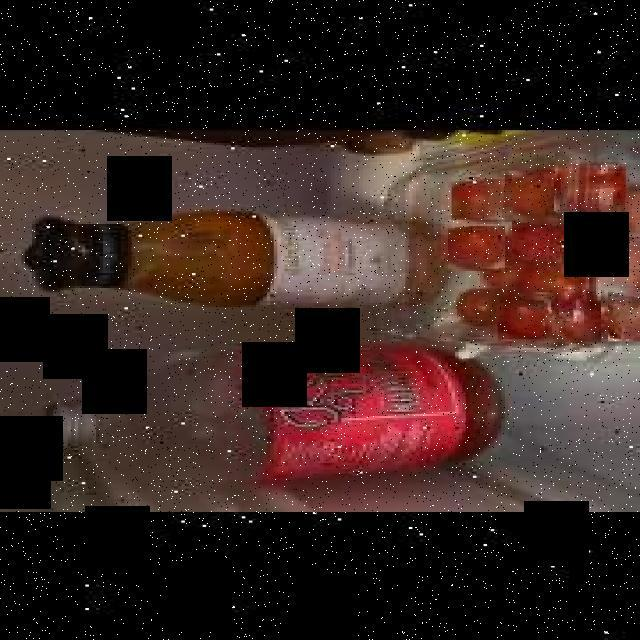tomato: (554, 164, 626, 211), (506, 168, 564, 218), (544, 296, 601, 342), (498, 290, 551, 337), (448, 226, 505, 267), (454, 179, 511, 218), (512, 218, 562, 260), (534, 264, 598, 296), (601, 239, 640, 290), (562, 226, 612, 263), (608, 181, 640, 235), (451, 289, 505, 321), (608, 290, 640, 339), (482, 256, 528, 288)
